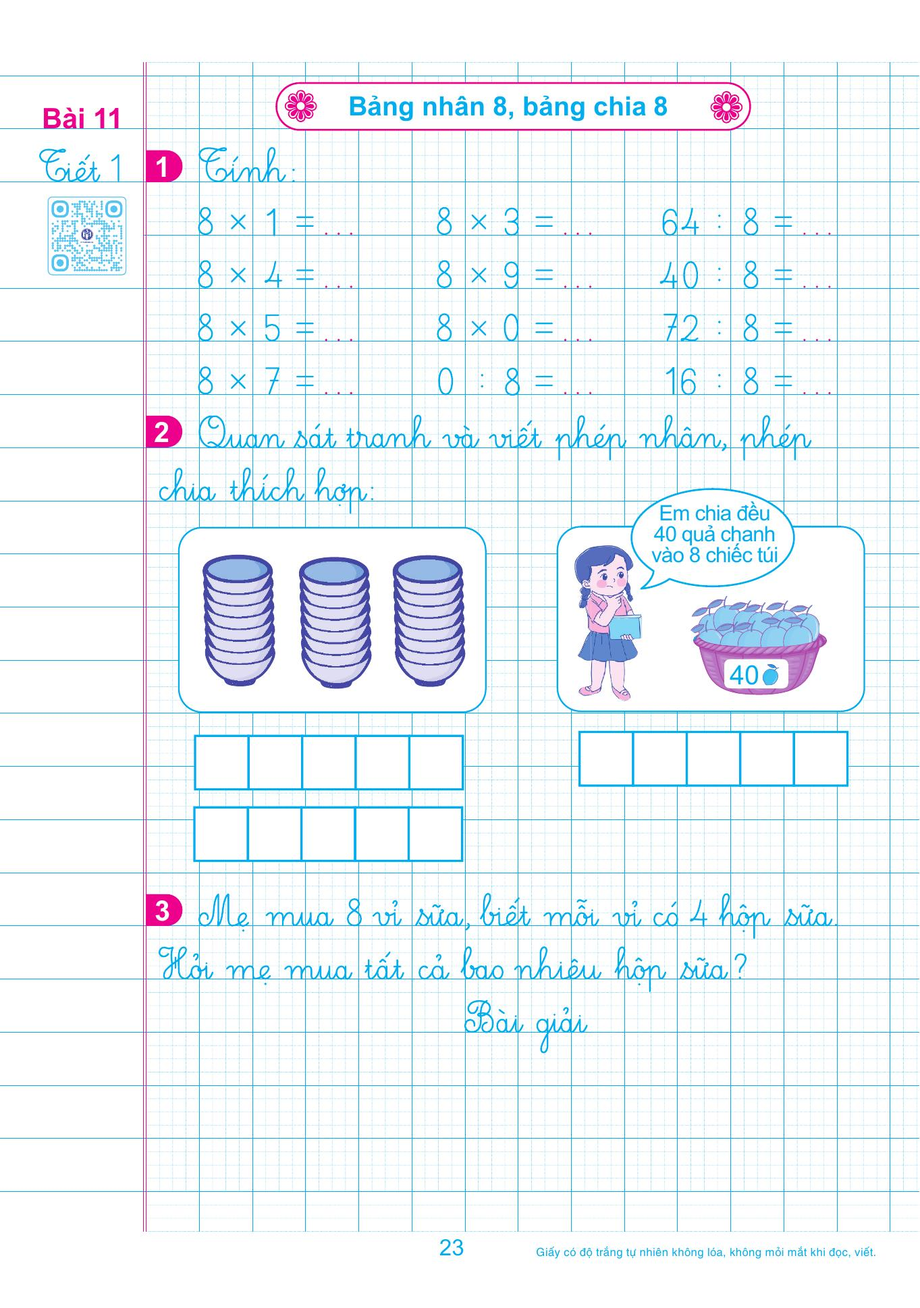None: (143, 411, 920, 865)
Tự luận: (145, 876, 920, 1196)
Điền từ: (141, 141, 919, 405)
